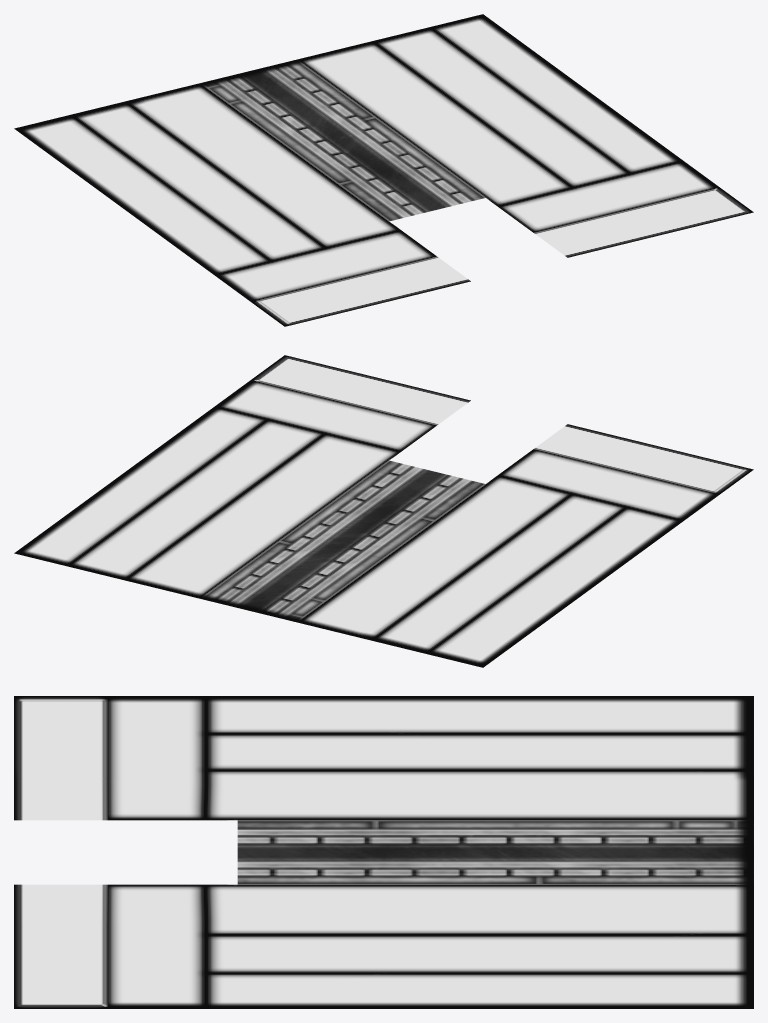
The model's file is Sect_Floor_15.FBX.
The picture shows the model from 3 angles, top to bottom: view 1: azimuth 30°, elevation 25°; view 2: azimuth 150°, elevation 25°; view 3: azimuth 270°, elevation 25°; orthographic projection. The views are drawn at different scales.
Parts seen in each view (by area): view 1: Floor_15; view 2: Floor_15; view 3: Floor_15.
Part boxes in pixels (box(x1,y1,x2,y2)): Floor_15: box(14, 14, 753, 326); Floor_15: box(14, 355, 753, 667); Floor_15: box(14, 696, 753, 1008).
Size of the model in its own units: 4 by 1.13e-15 by 4.
